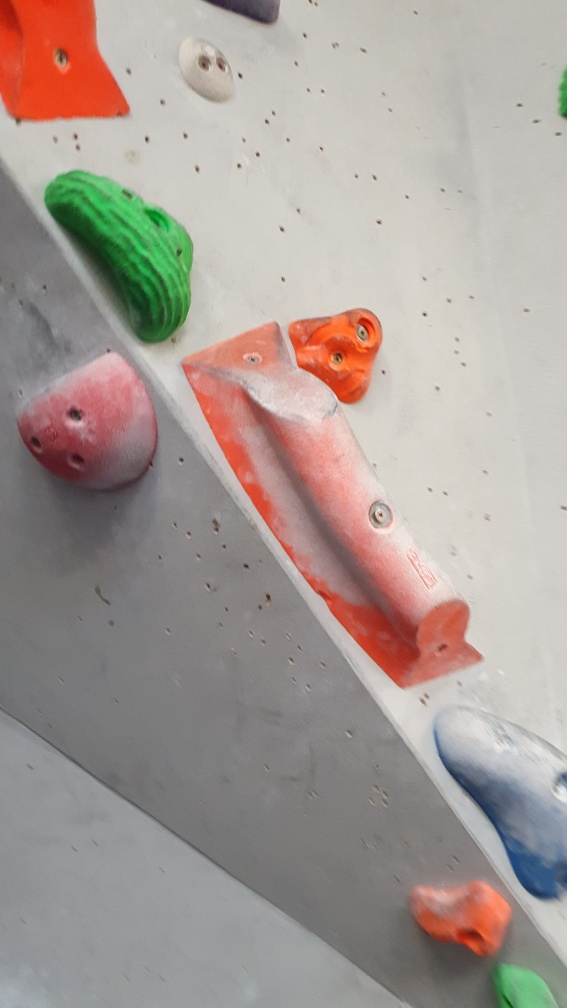Jug: (39, 165, 198, 345)
Pinch: (181, 320, 490, 697), (430, 699, 567, 902), (1, 2, 136, 128)
Sloper: (14, 352, 160, 498)
